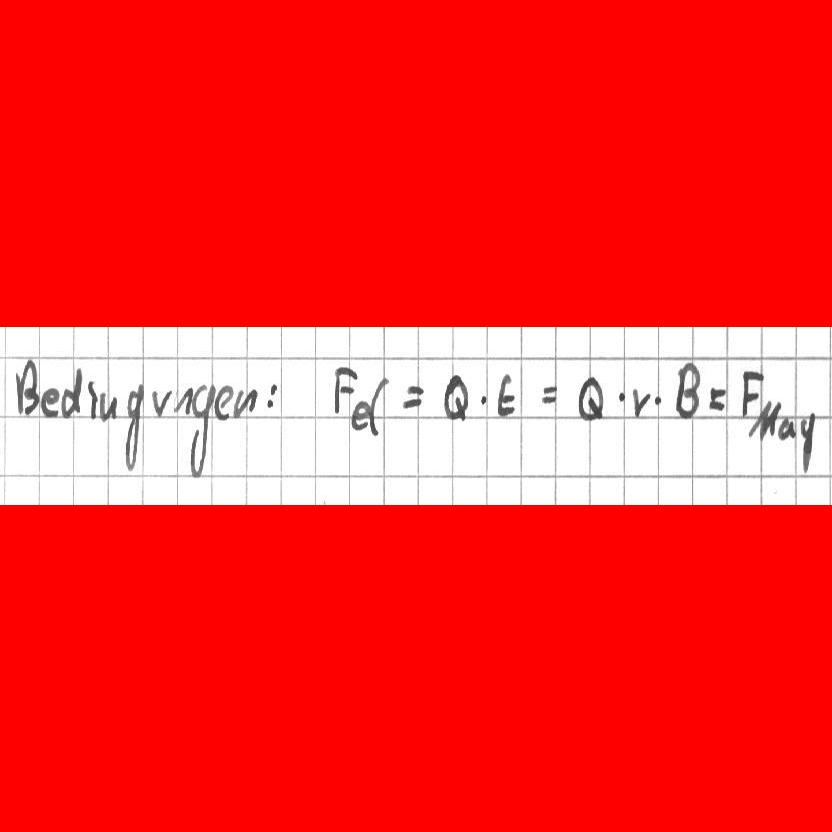Char: (186, 380, 215, 479), (121, 380, 146, 475), (437, 370, 475, 422), (673, 359, 703, 419), (328, 358, 355, 415), (575, 373, 607, 421), (14, 356, 40, 415), (799, 406, 821, 475), (368, 373, 391, 437), (59, 362, 84, 417), (748, 398, 779, 440), (491, 372, 516, 417), (739, 366, 761, 412), (211, 380, 235, 420), (629, 385, 655, 420), (399, 383, 432, 409), (347, 398, 371, 432), (232, 386, 256, 419), (38, 384, 61, 418), (171, 383, 194, 415), (706, 382, 728, 414), (98, 389, 118, 423), (775, 414, 797, 442), (263, 380, 281, 414), (537, 381, 559, 408), (151, 386, 170, 416), (85, 377, 97, 423), (478, 390, 491, 409), (650, 393, 664, 409), (615, 388, 628, 405)
